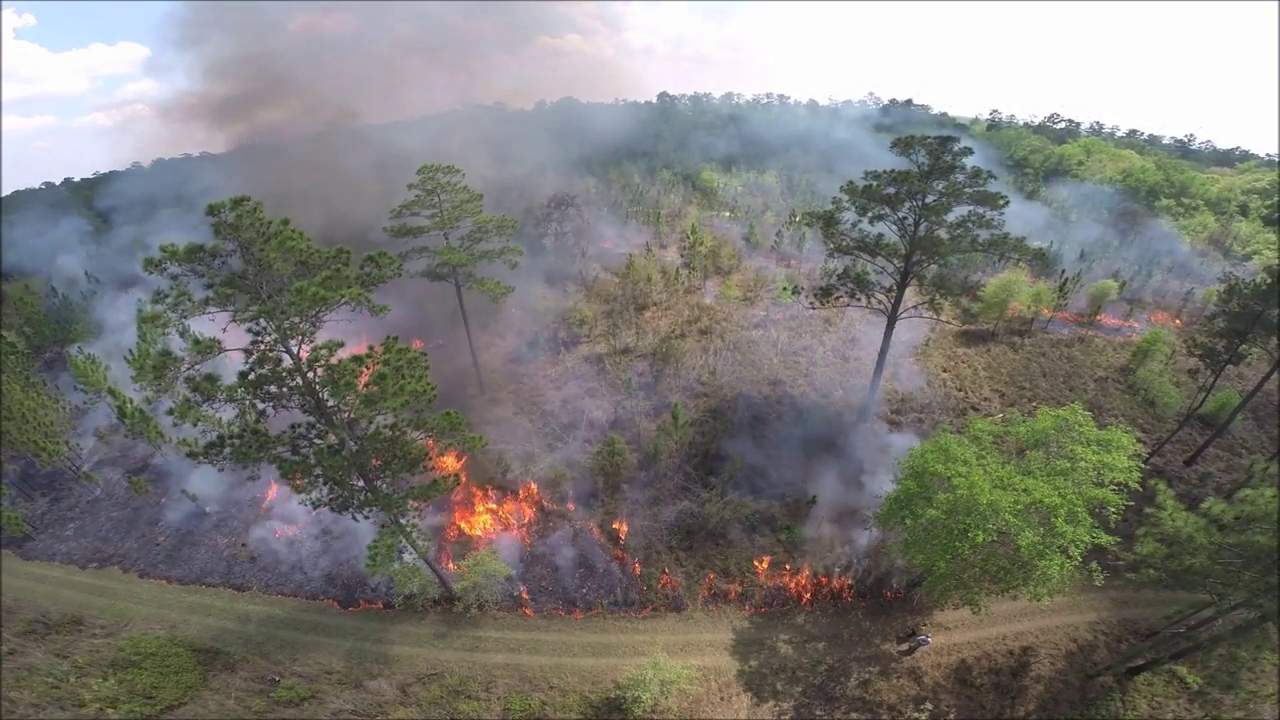forest_fire: (418, 439, 554, 570), (570, 518, 684, 612), (697, 555, 871, 610), (512, 583, 583, 615), (258, 480, 279, 512), (273, 523, 301, 537), (881, 587, 901, 598), (361, 600, 375, 607), (339, 347, 350, 353), (414, 338, 421, 346), (312, 510, 319, 516), (368, 345, 375, 349), (367, 368, 372, 372), (303, 519, 304, 522), (569, 499, 570, 501), (356, 345, 358, 346), (569, 506, 570, 507)
